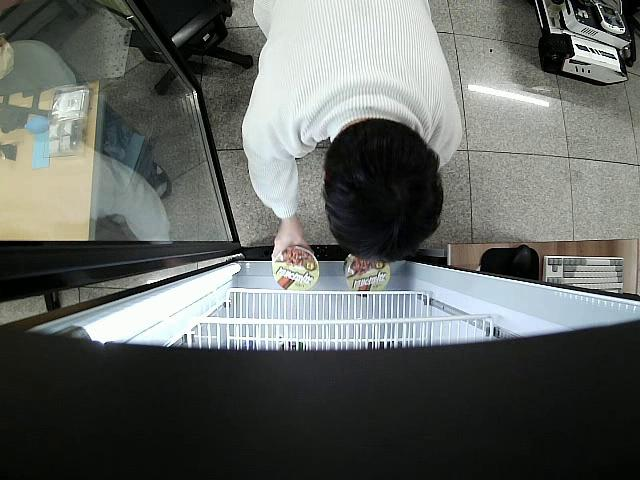00_hand: (271, 230, 312, 262)
03_chapagetti_L: (344, 253, 390, 299), (271, 247, 320, 290)
